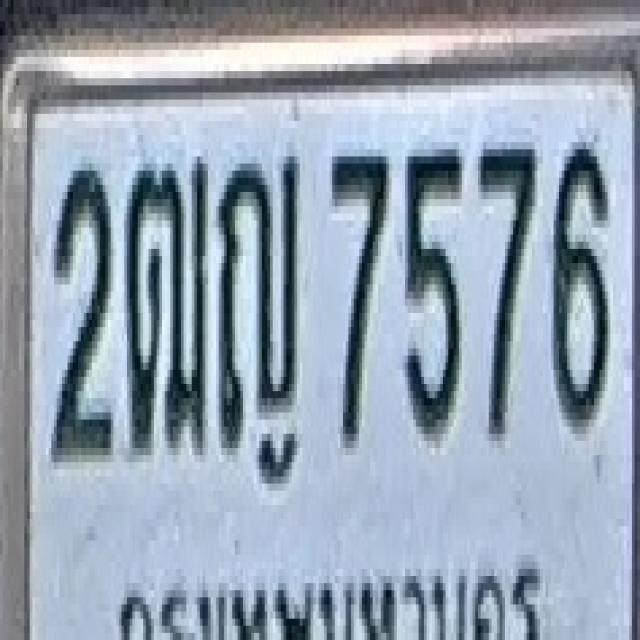2: (51, 160, 111, 459)
5: (404, 142, 460, 441)
6: (551, 135, 607, 427)
7: (329, 149, 389, 448), (477, 139, 536, 437)
A13: (218, 153, 298, 444)
A18: (124, 153, 208, 451)
